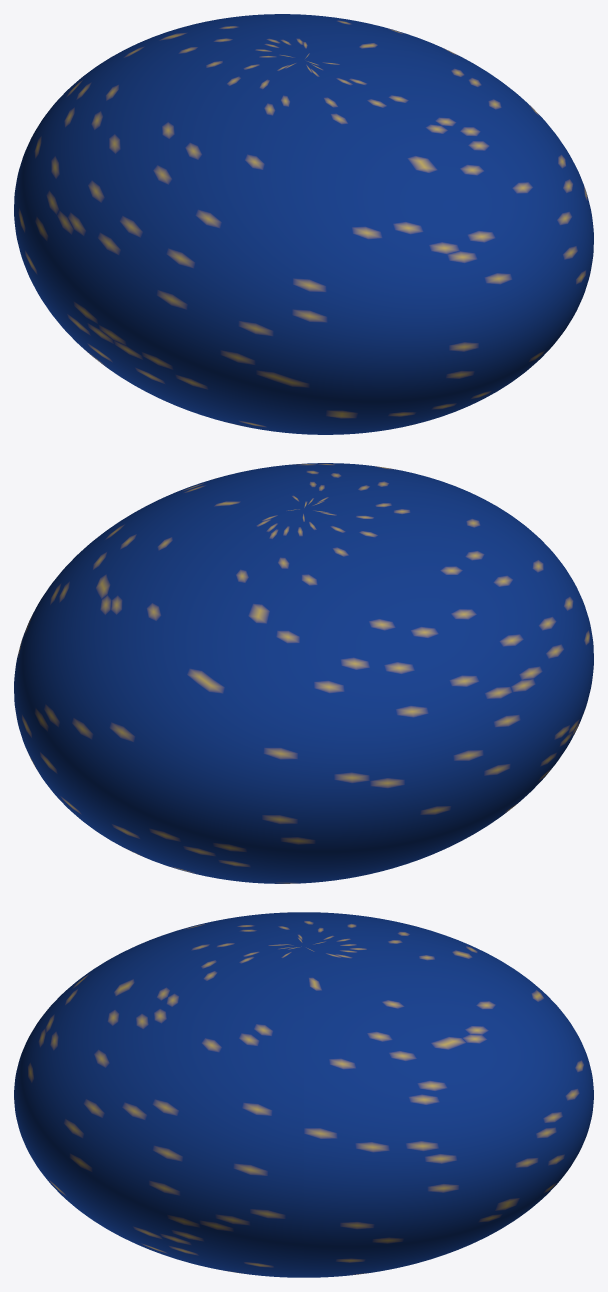
The model's file is lapis-lazuli.glb.
3 renders of one model, top to bottom at view 1: azimuth 30°, elevation 25°; view 2: azimuth 150°, elevation 25°; view 3: azimuth 270°, elevation 25°, orthographic. The views are drawn at different scales.
Visible parts, largest first — view 1: lapis-lazuli; view 2: lapis-lazuli; view 3: lapis-lazuli.
Part boxes in pixels (<box>): lapis-lazuli: <box>14,14,593,434</box>; lapis-lazuli: <box>14,463,593,883</box>; lapis-lazuli: <box>14,912,593,1277</box>.
Size of the model in its own units: 2.17 by 1.41 by 2.5.
